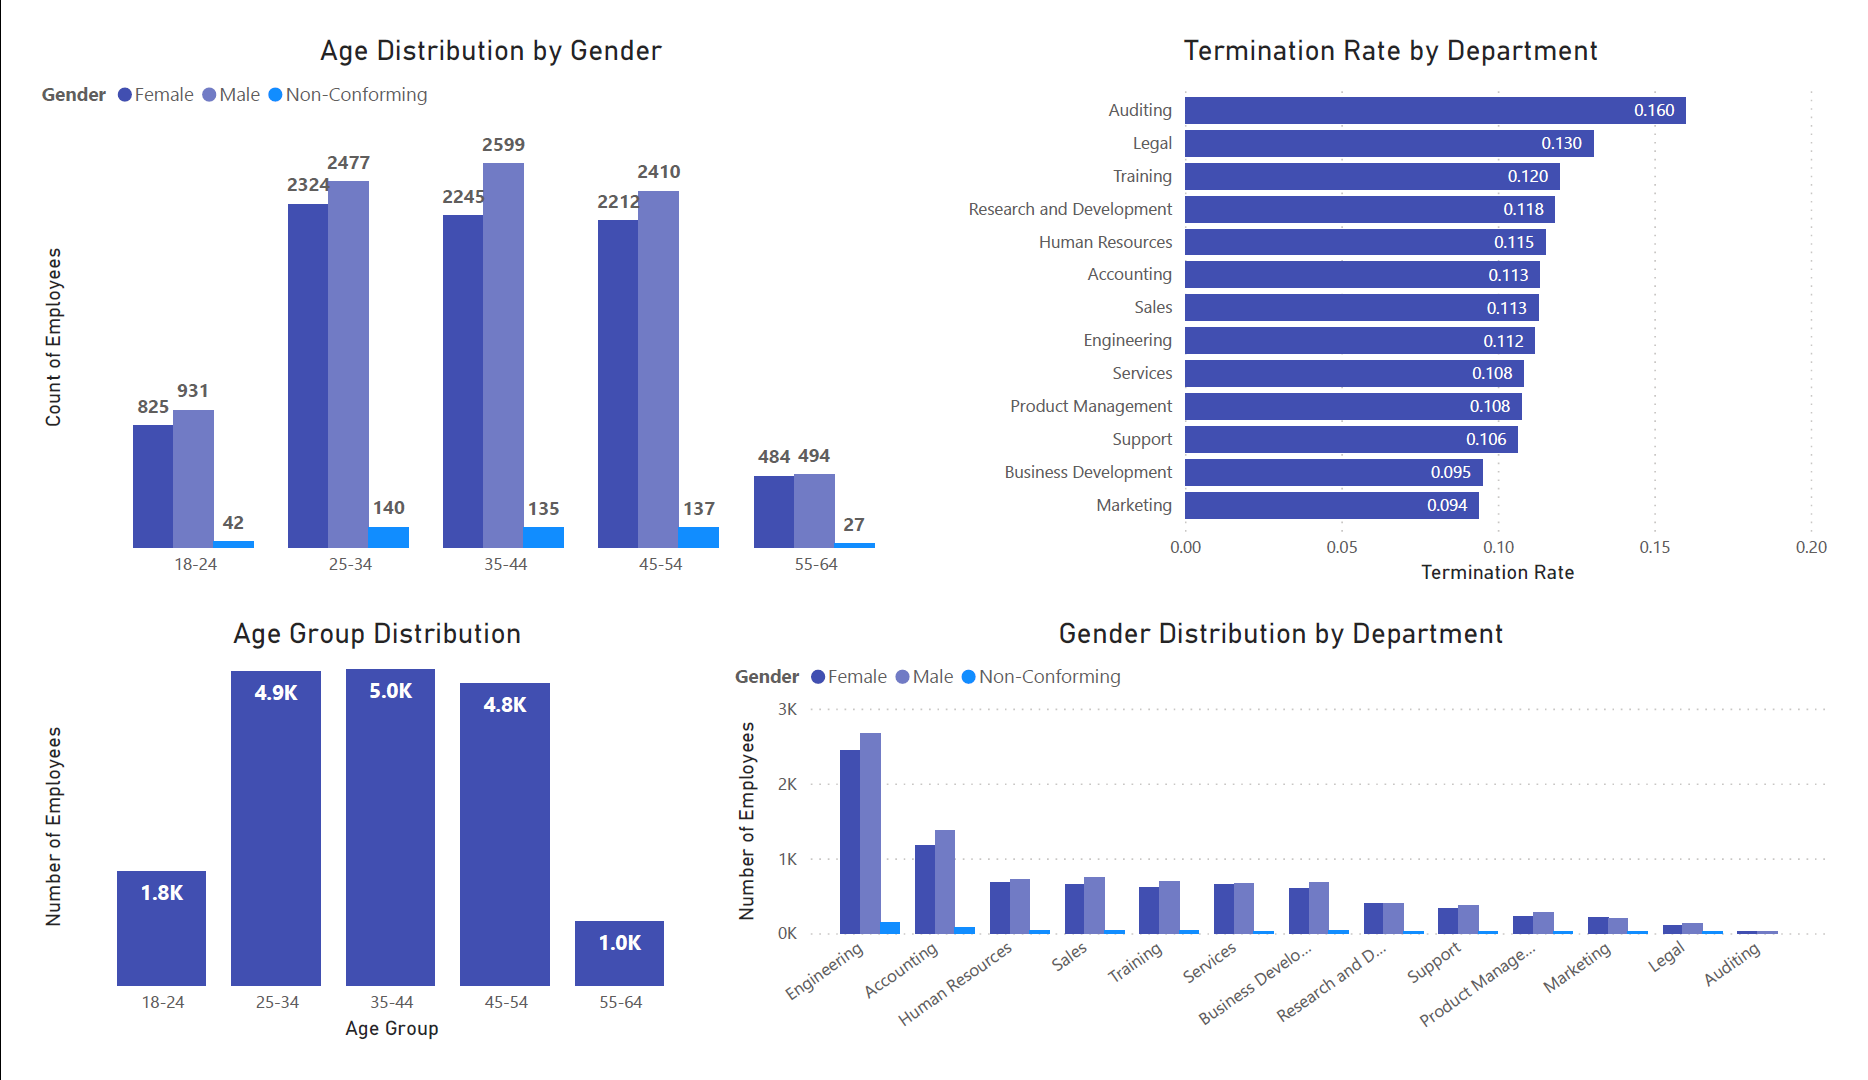

The page's visual inventory and layout, read from the dashboard file:
{"tool":"powerbi","page":{"name":"Page 2","canvas":[1280,720],"ordinal":1},"visuals":[{"type":"columnChart","title":"Age Group Distribution","fields":{"Category":["age_group.age_group"],"Y":["Sum(age_group.count)"]},"box":[0,413.7,487.2,306.3],"z":0},{"type":"clusteredColumnChart","title":"Age Distribution by Gender","fields":{"Category":["age_group_gender.age_group"],"Y":["Sum(age_group_gender.count)"],"Series":["age_group_gender.gender"]},"box":[0,0,649.3,395.8],"z":1000},{"type":"barChart","title":"Termination Rate by Department","fields":{"Category":["turnover_rate.department"],"Y":["Sum(turnover_rate.termination_rate)"]},"box":[649.3,0,630.4,395.8],"z":2000},{"type":"clusteredColumnChart","title":"Gender Distribution by Department","fields":{"Category":["gender_depts.department"],"Y":["Sum(gender_depts.count)"],"Series":["gender_depts.gender"]},"box":[493.4,413.7,786.3,306.3],"z":3000}]}

Visuals, with their boxes in screenshot pixels (x1, y1, x2, y2), scaled from the page's 1280x720 canvas onto the 1868x1080 screenshot:
"Age Group Distribution" columnChart: bbox=[0, 621, 711, 1079]
"Age Distribution by Gender" clusteredColumnChart: bbox=[0, 0, 948, 594]
"Termination Rate by Department" barChart: bbox=[948, 0, 1867, 594]
"Gender Distribution by Department" clusteredColumnChart: bbox=[720, 621, 1867, 1079]
